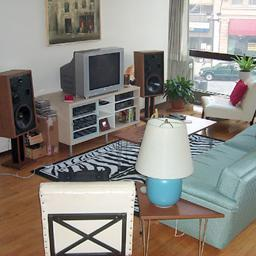Matera: (165, 73, 196, 115), (236, 53, 253, 80)
Otro Obstaculo: (9, 73, 39, 165), (133, 54, 165, 111), (35, 100, 60, 158)
Ventana: (186, 3, 254, 88)
